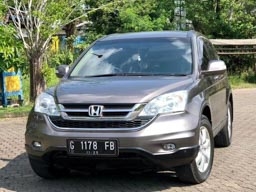plat: (67, 140, 116, 150)
